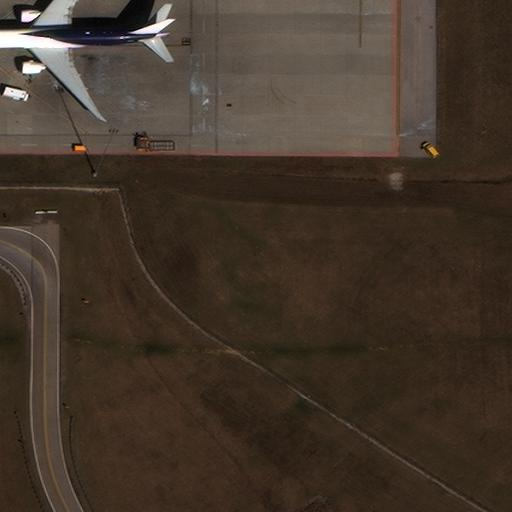Large Civil Transport: (0, 0, 169, 117)
